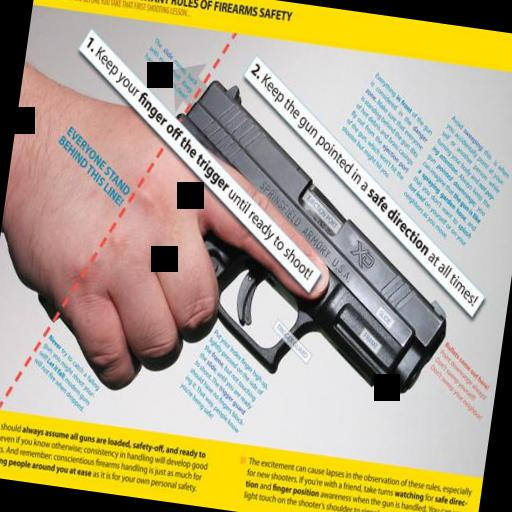Handgun: (134, 66, 478, 424)
